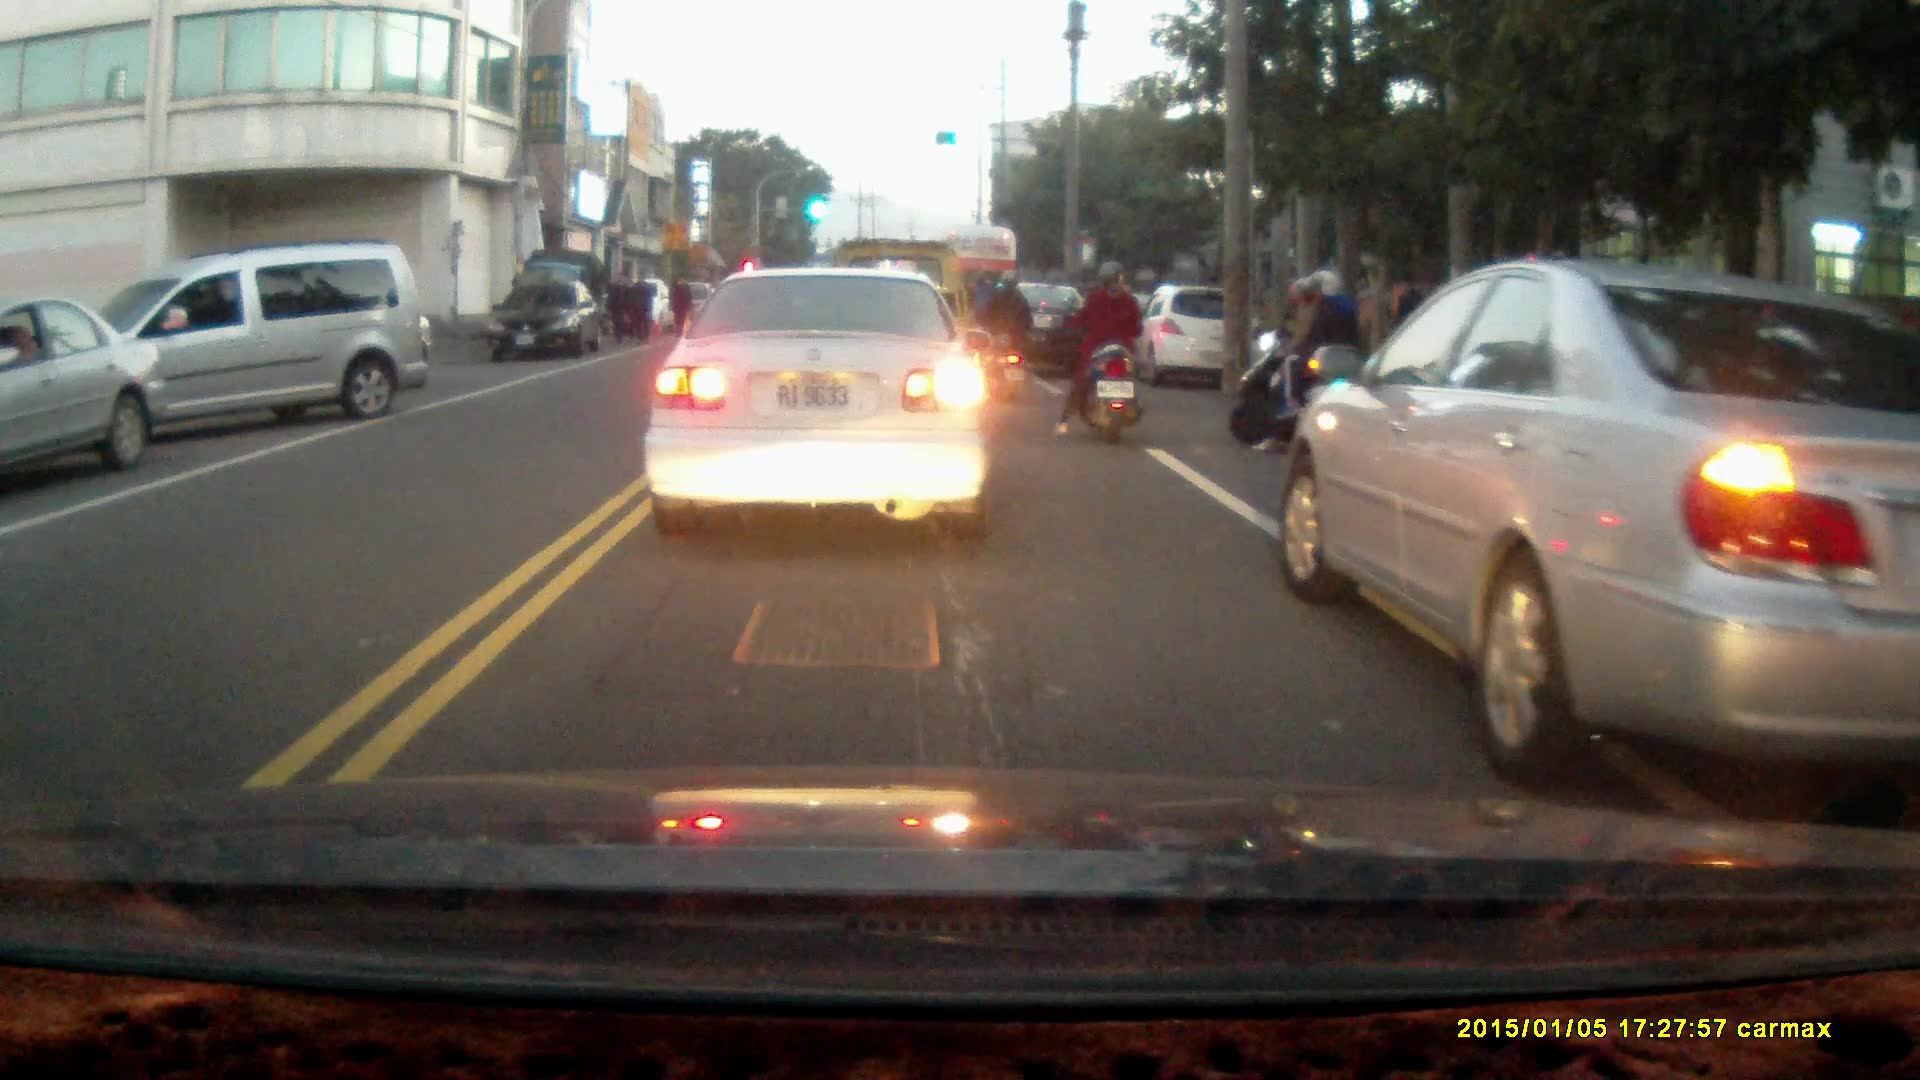pedestrian: (1392, 274, 1427, 363), (603, 271, 631, 348), (626, 272, 652, 349), (666, 272, 694, 340)
rider: (1229, 265, 1370, 456), (1050, 261, 1146, 445), (963, 269, 1029, 396)
vehicle: (1279, 256, 1920, 773), (650, 270, 995, 555), (60, 248, 425, 454), (1, 298, 167, 492), (970, 279, 1109, 382), (1132, 284, 1256, 395), (492, 279, 610, 364)
